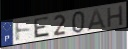0: (71, 10, 86, 34)
2: (53, 13, 68, 37)
A: (86, 8, 108, 32)
E: (33, 16, 51, 39)
F: (14, 18, 33, 43)
H: (107, 4, 124, 28)
